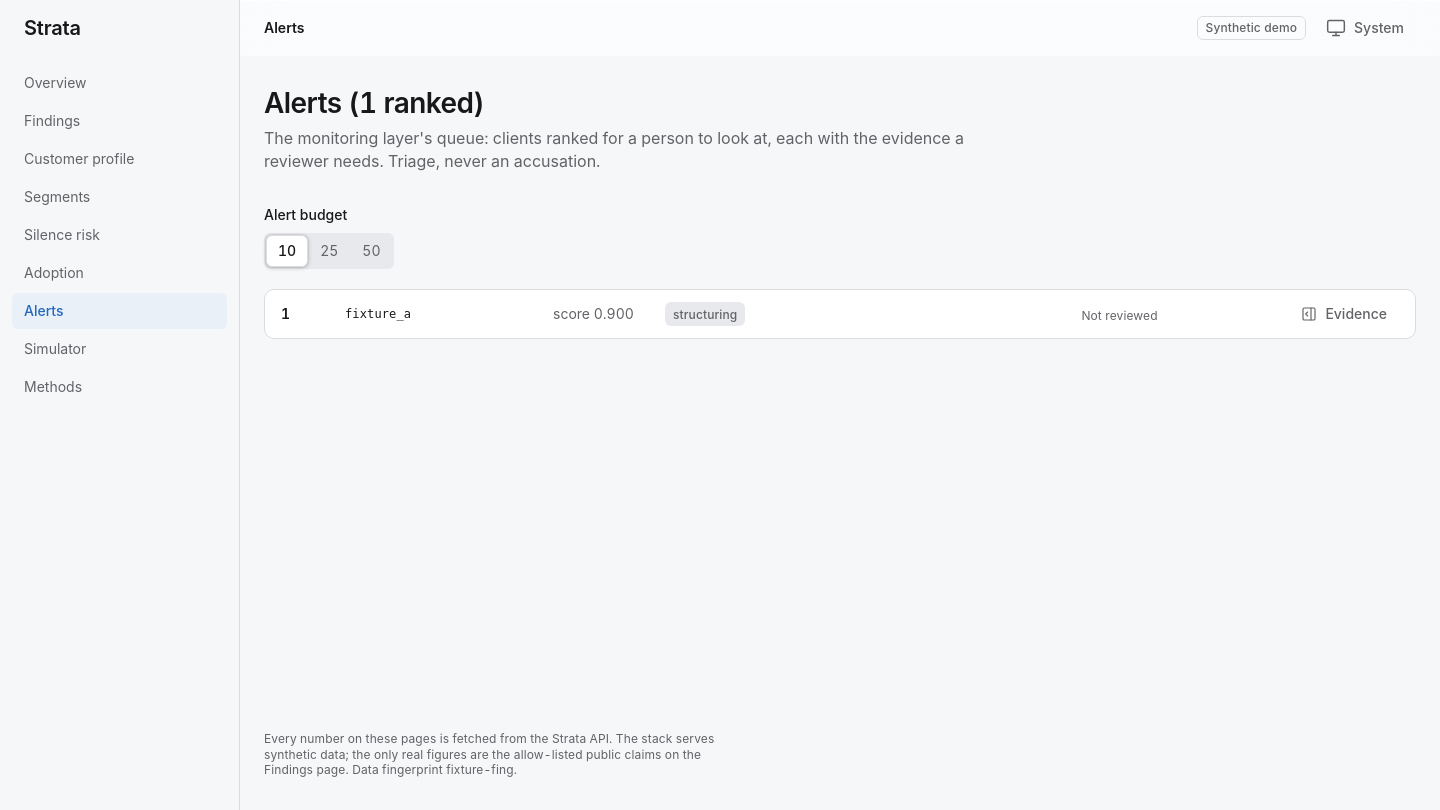
Test: the dashboard › opens an alert's evidence in a drawer and stores the feedback given there
Click the button with aria-label "Evidence for alert 1" at point(1344, 314), box left=1289, top=296, right=1399, bottom=332
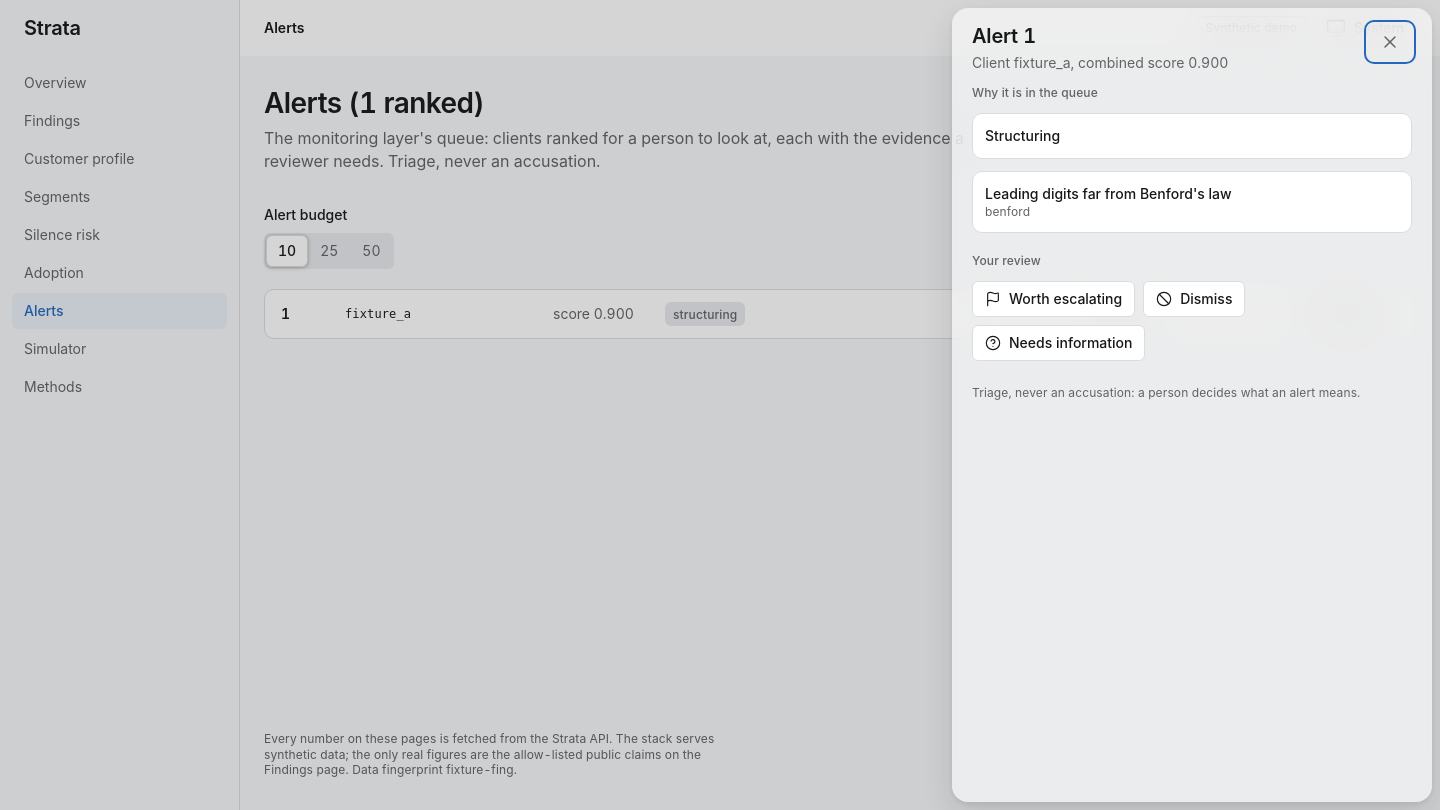
Now the text "Structuring" is shown, box left=985, top=127, right=1060, bottom=144
Click the button "Dismiss" at point(1194, 299), box left=1143, top=281, right=1245, bottom=317
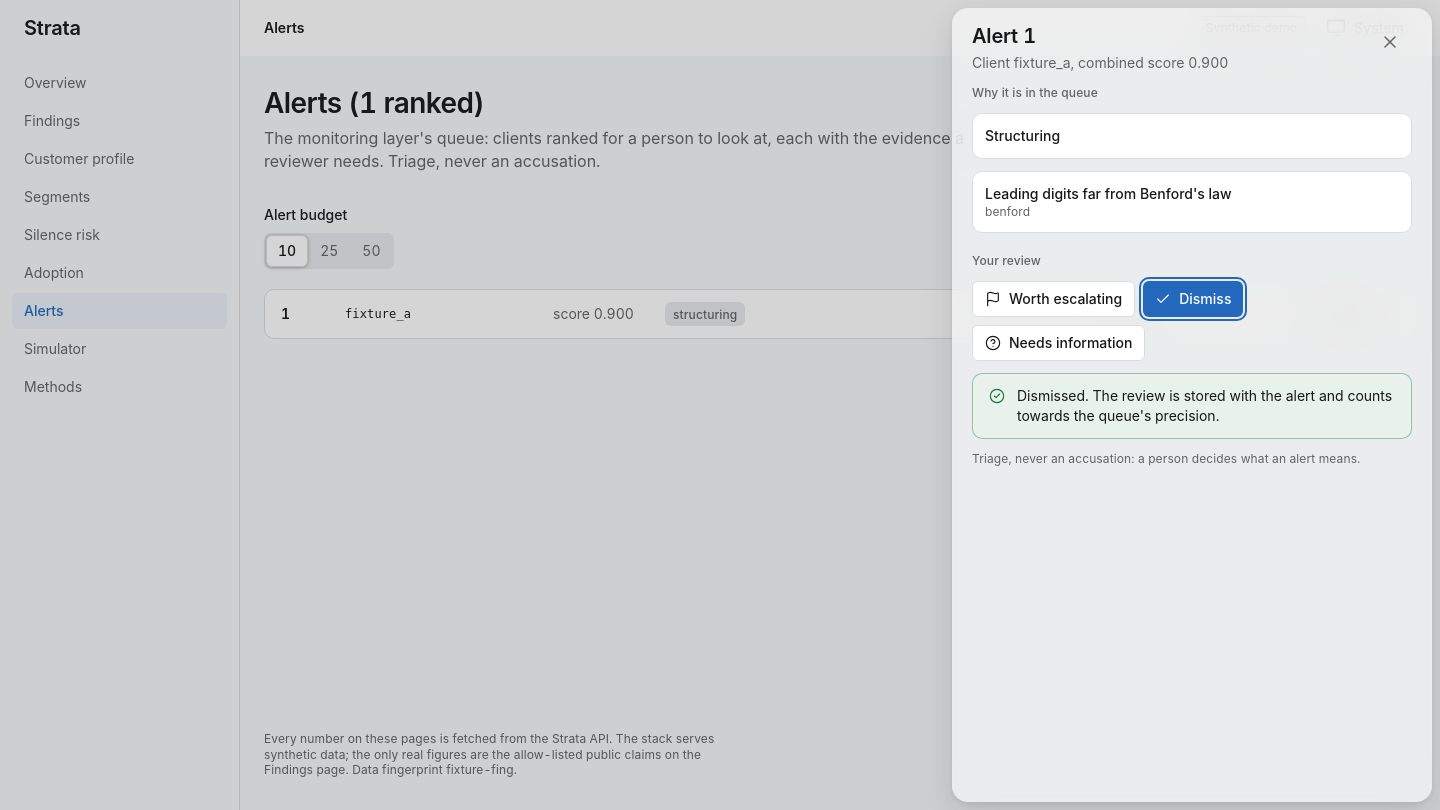
Now the text "Dismissed. The review is stored" is shown, box left=1017, top=386, right=1395, bottom=426
Press Escape
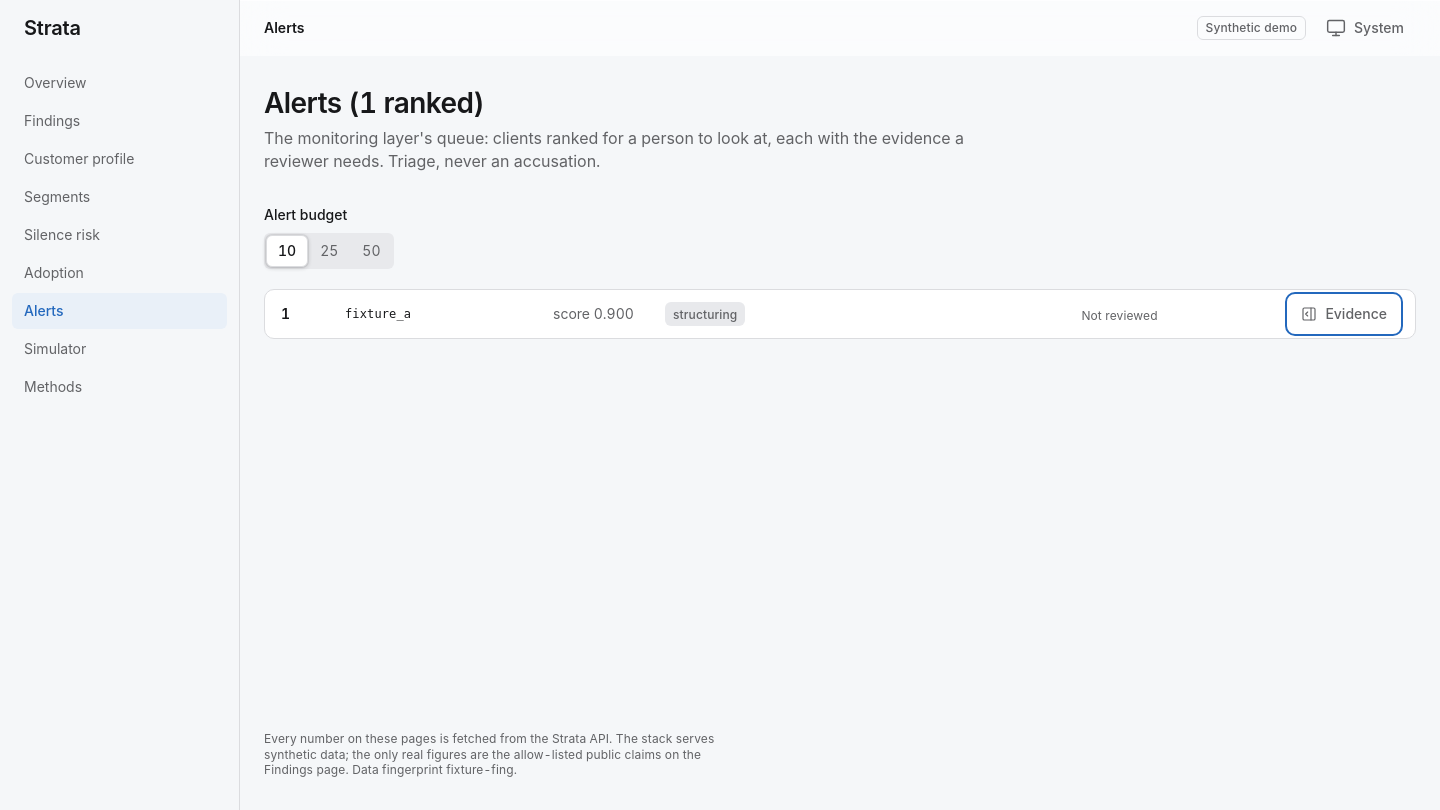
Now the dialog is gone
